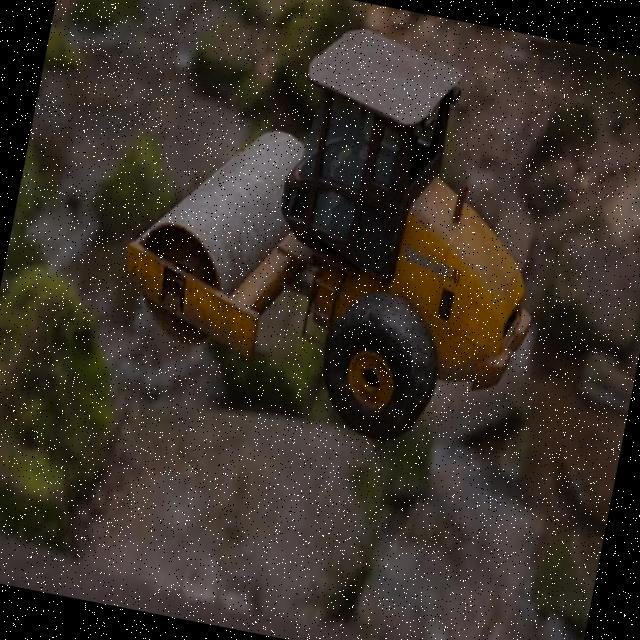Roller: (98, 0, 579, 465)
